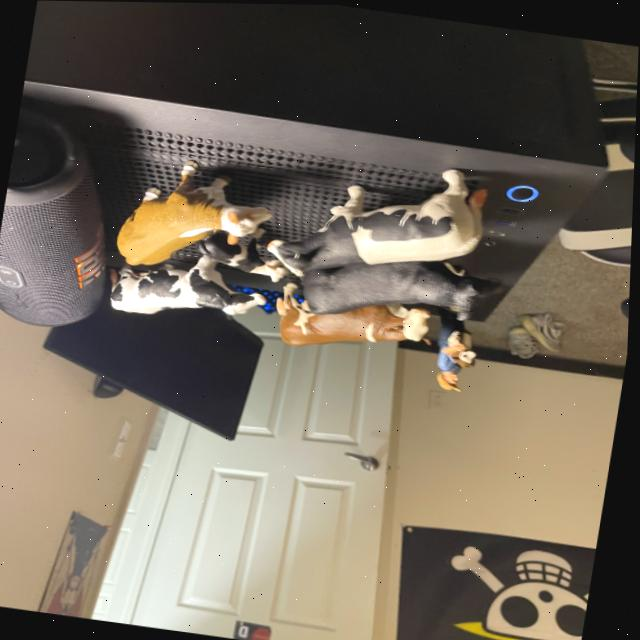cow: (263, 164, 495, 279), (101, 141, 276, 272), (271, 279, 434, 369), (303, 254, 500, 313), (112, 254, 267, 316), (197, 218, 300, 285), (445, 336, 482, 371)
person: (439, 350, 464, 389)
